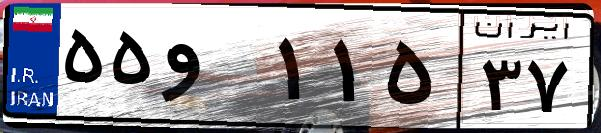1: (270, 28, 330, 110), (330, 28, 385, 110)
3: (475, 38, 525, 113)
5: (385, 28, 445, 110), (57, 26, 110, 100), (110, 28, 158, 98)
7: (525, 38, 570, 115)
و: (158, 20, 270, 120)
